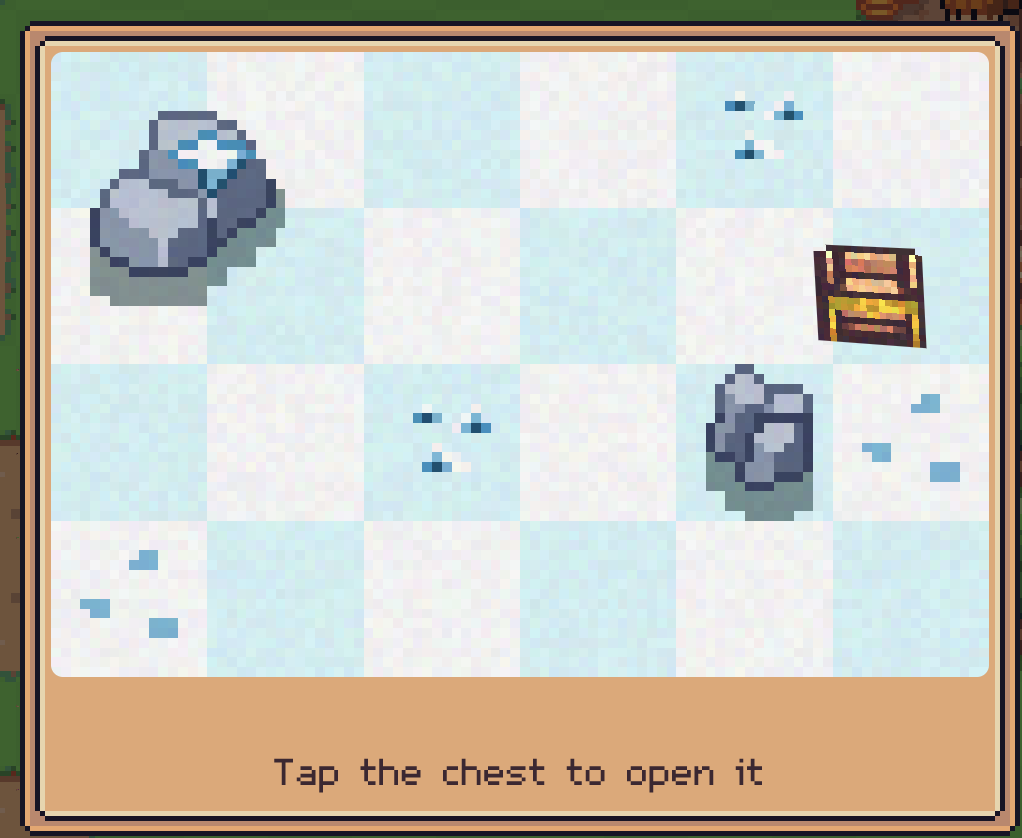capcha_chest: (810, 240, 931, 350)
